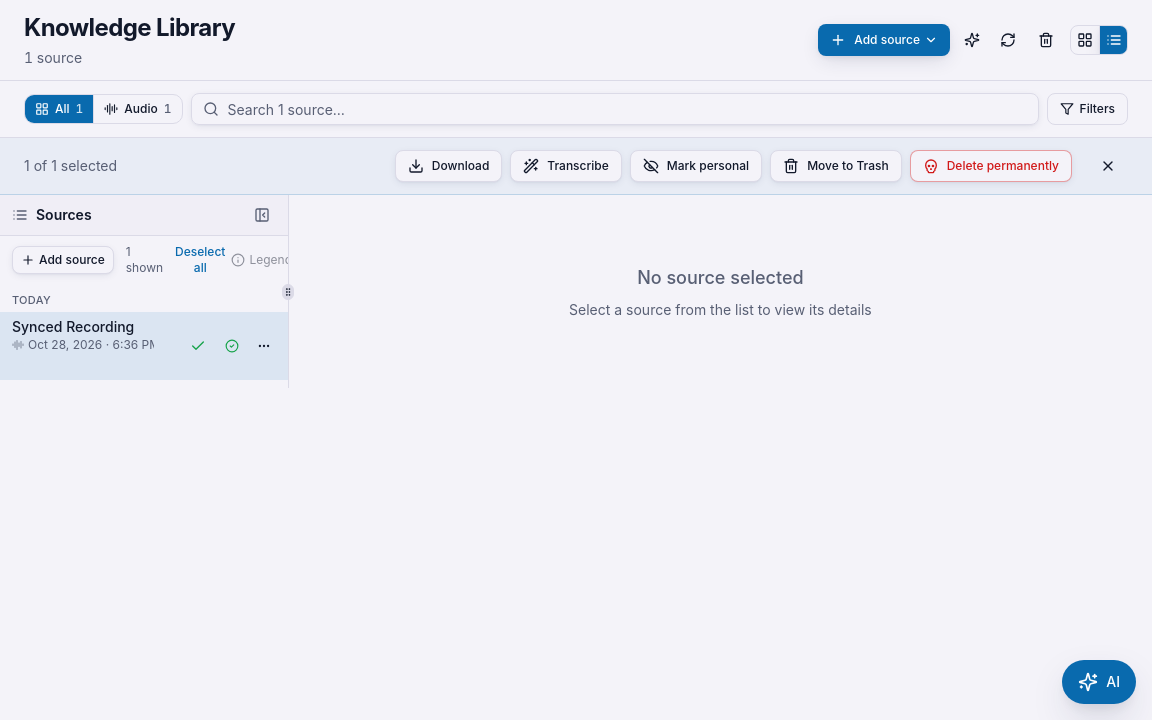
bulk permanent deletion — durable device erase › evicts the renderer cache before rebuilding after a confirmed bulk device erase
The width and height of the screenshot is (1152, 720).
Expected: the text "Synced Recording" is shown, [12,318,134,335]
Click the button "Delete permanently".
click(991, 166)  # box [910,150,1072,182]
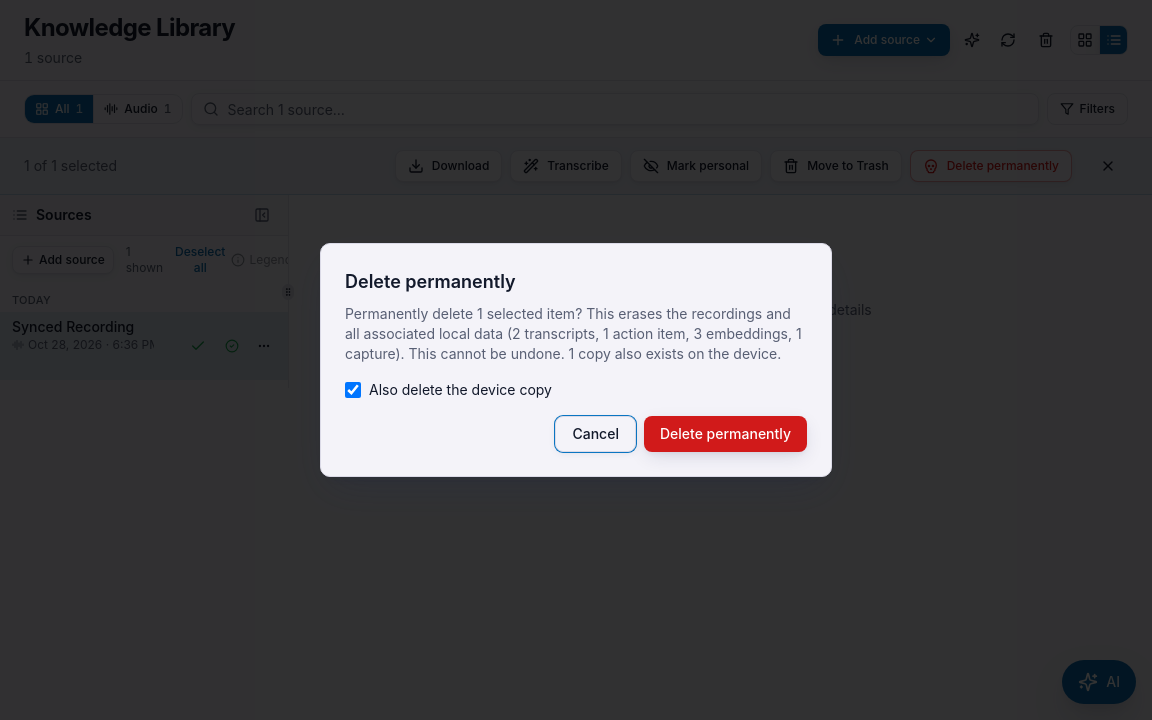
Result: the text "1 copy also exists on the device" is shown at [345,305,802,362]
Click the button "Delete permanently".
click(726, 434)  # box [644,416,807,452]
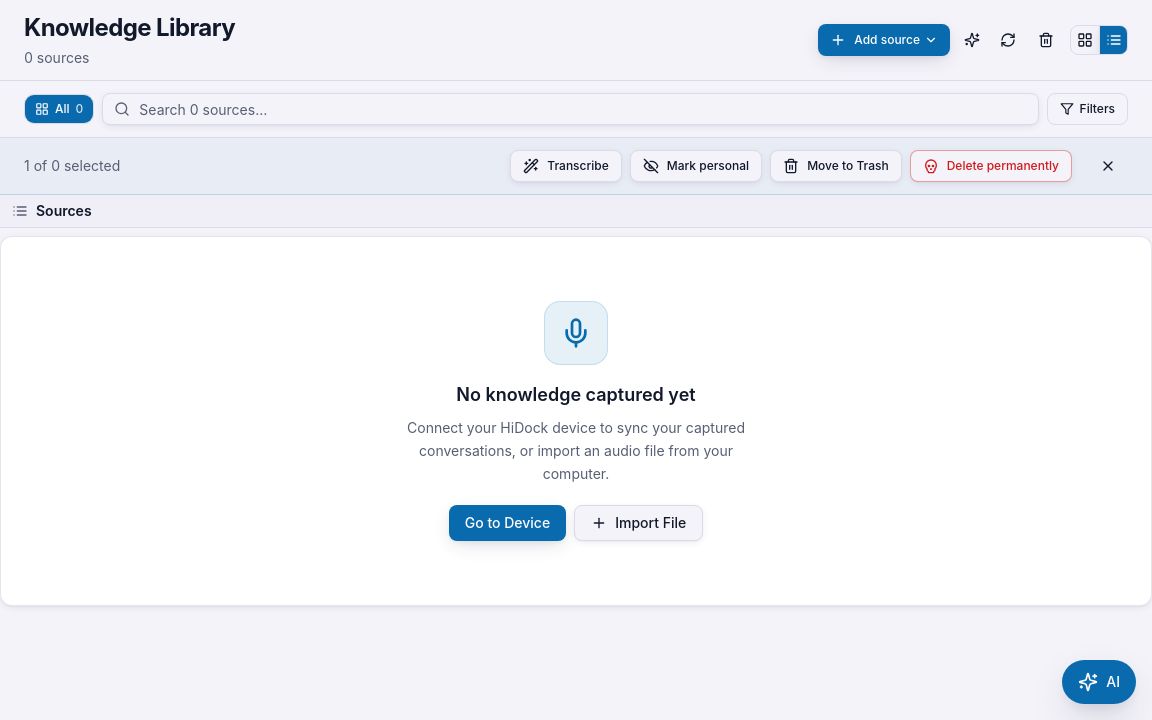
Result: the option "Synced Recording" is gone
